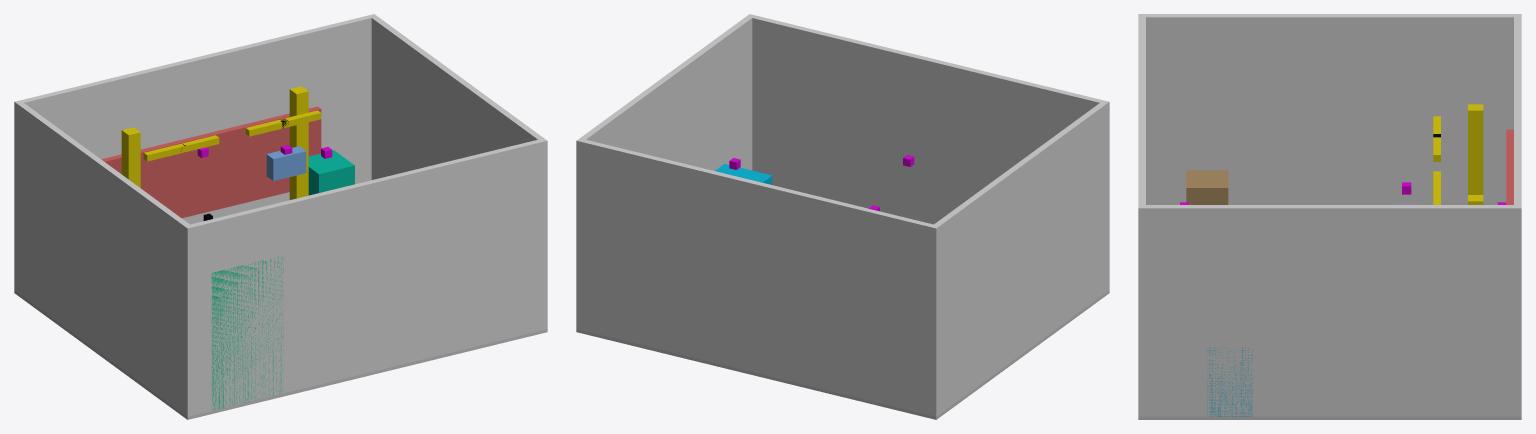
File: icu_skeleton_placeholders.glb
3 views of the same model, side by side, from view 1: azimuth 30°, elevation 25°; view 2: azimuth 150°, elevation 25°; view 3: azimuth 270°, elevation 25° (orthographic). The views are drawn at different scales.
Visible parts, largest first — view 1: ROOM__wall_south, ROOM__wall_west, ROOM__wall_north, ROOM__wall_east, OBJ__headwall_bad, OBJ__door, ROOM__floor, OBJ__ventilator, OBJ__boom_R__column, OBJ__monitor, OBJ__boom_L__column, OBJ__boom_L__arm (+1 smaller); view 2: ROOM__wall_north, ROOM__wall_south, ROOM__wall_west, ROOM__wall_east, ROOM__floor, OBJ__sink; view 3: ROOM__wall_east, ROOM__wall_west, ROOM__wall_south, ROOM__wall_north, ROOM__floor, OBJ__chair, OBJ__boom_L__column, OBJ__sink, OBJ__headwall_bad.
Part boxes in pixels (x1,y1,x2,y2): ROOM__wall_south: (184,138,547,416); ROOM__wall_west: (14,103,191,416); ROOM__wall_north: (14,14,377,292); ROOM__wall_east: (369,14,547,330); OBJ__headwall_bad: (101,106,321,218); OBJ__door: (211,257,283,409); ROOM__floor: (14,290,547,419); OBJ__ventilator: (308,150,354,195); OBJ__boom_R__column: (289,86,308,199); OBJ__monitor: (266,146,306,180); OBJ__boom_L__column: (121,127,140,187); OBJ__boom_L__arm: (143,135,219,161); ROOM__wall_north: (576,138,939,416); ROOM__wall_south: (746,14,1109,292); ROOM__wall_west: (930,103,1109,415); ROOM__wall_east: (576,14,755,330); ROOM__floor: (576,290,1109,419); OBJ__sink: (715,164,772,184); ROOM__wall_east: (1138,205,1521,416); ROOM__wall_west: (1138,14,1520,204); ROOM__wall_south: (1138,14,1145,416); ROOM__wall_north: (1514,14,1521,416); ROOM__floor: (1138,416,1521,419); OBJ__chair: (1186,170,1228,204); OBJ__boom_L__column: (1468,104,1483,194); OBJ__sink: (1207,347,1252,416); OBJ__headwall_bad: (1506,129,1513,204).
Size of the model in its own units: 6 by 3.05 by 5.
